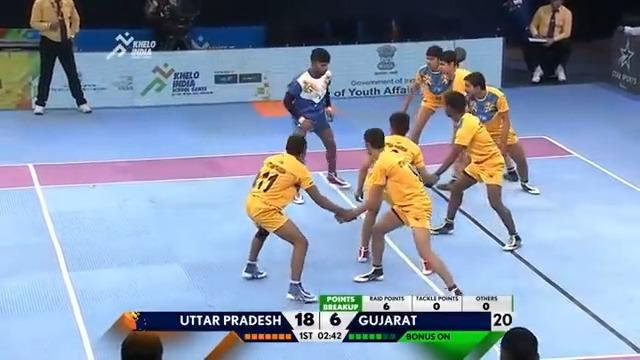Player: (334, 126, 463, 296), (241, 134, 356, 303), (424, 90, 523, 251), (434, 71, 540, 195), (28, 0, 92, 115), (401, 45, 451, 144)
Raider: (282, 47, 351, 204)
referee: (524, 0, 573, 83), (142, 0, 199, 50)
